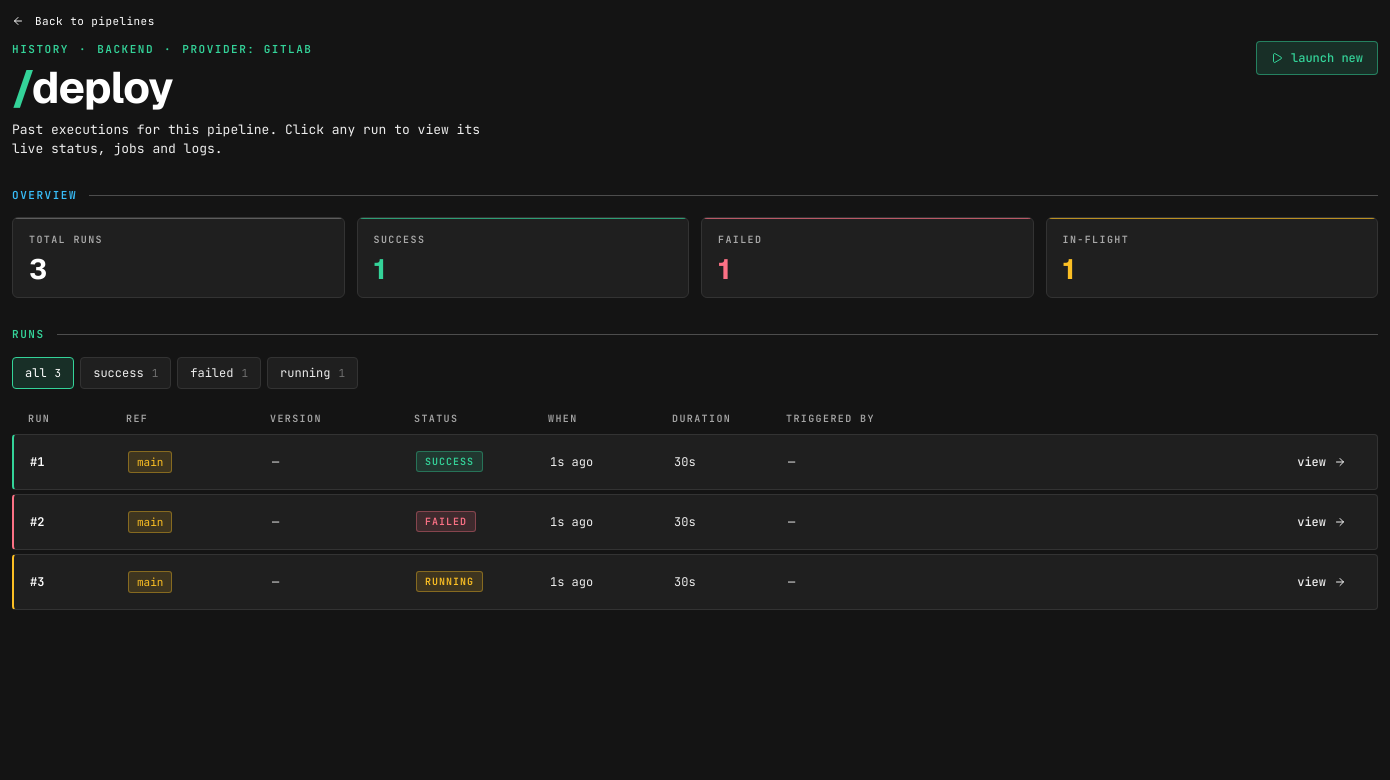
Test: PipelineHistoryPage › filters the runs list when a filter pill is clicked
The image size is (1390, 780).
Check: the text "#1" is shown, box [30,454,44,470]
What coordinates should you click on to do the following:
click the button "failed 1"
I would click on:
 (219, 373)
Its box is [177,357,261,389].
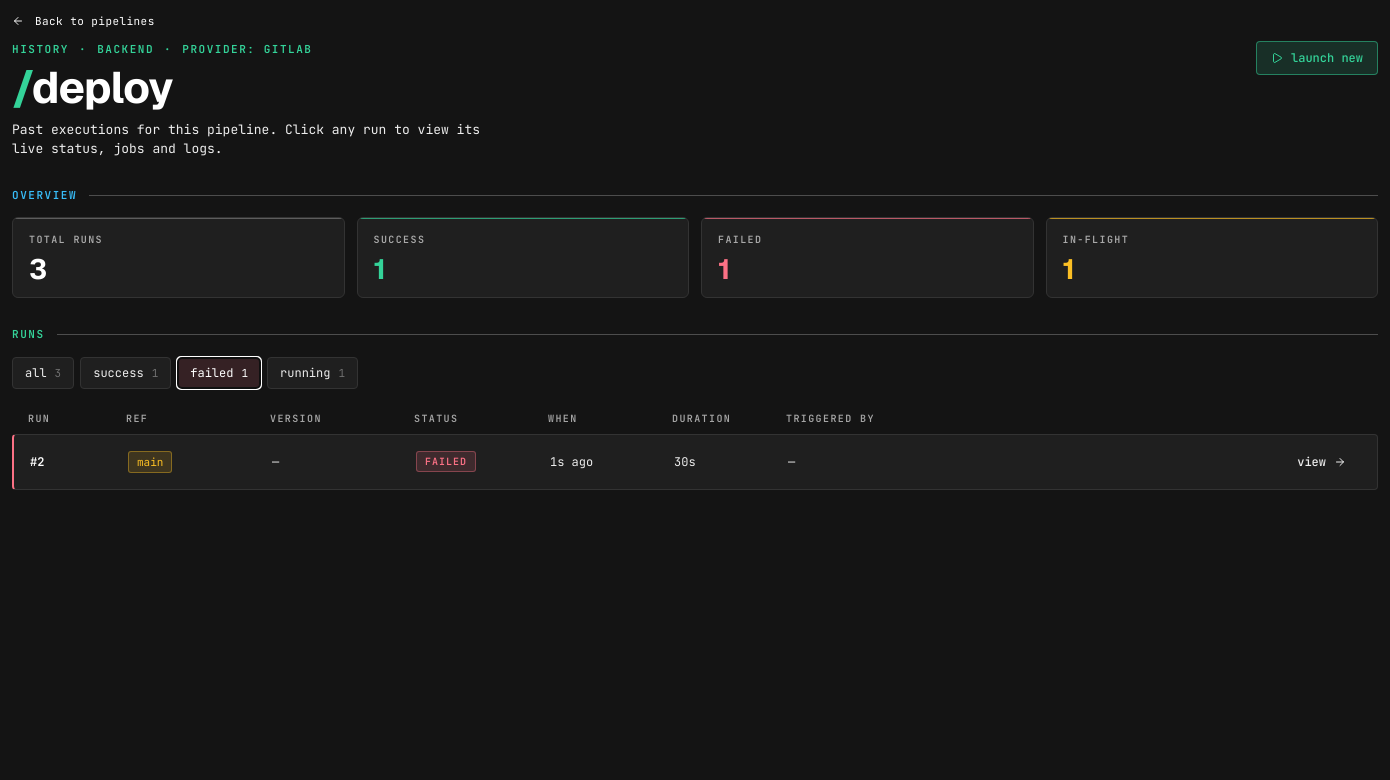
Check: the text "#2" is shown, box [30,454,44,470]
Check: the button "#1" is gone
Check: the button "#3" is gone
